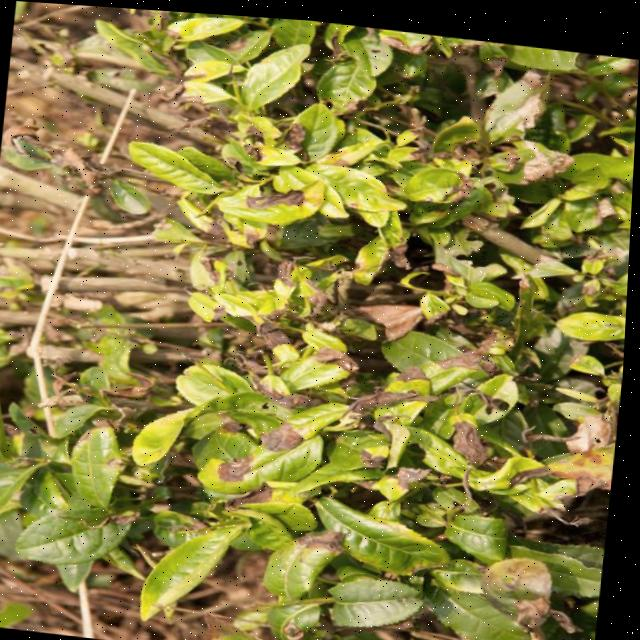Tea cloud leaf blight: (478, 545, 560, 625), (443, 394, 517, 464), (349, 363, 442, 411), (257, 289, 320, 350), (389, 449, 456, 506), (256, 406, 311, 472), (245, 174, 315, 223), (190, 220, 246, 272), (259, 106, 321, 152), (368, 283, 426, 327), (229, 340, 289, 378), (366, 231, 421, 270), (276, 254, 327, 284), (234, 130, 276, 162)
